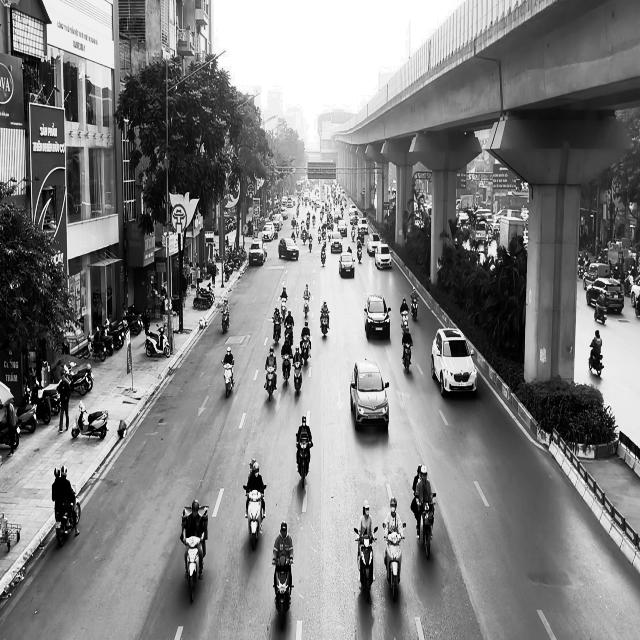car: (431, 327, 477, 397), (350, 357, 389, 430), (364, 294, 391, 339), (278, 237, 299, 261), (374, 243, 392, 269), (338, 252, 355, 278)
motorbike: (382, 522, 406, 602), (353, 526, 378, 602), (54, 484, 80, 547), (180, 535, 204, 603), (272, 557, 293, 630), (243, 484, 266, 550), (415, 492, 436, 560), (295, 438, 313, 488), (588, 344, 604, 376), (221, 360, 234, 398), (264, 365, 277, 401), (292, 360, 303, 396), (401, 342, 413, 374), (594, 298, 608, 324), (281, 354, 291, 386), (300, 336, 311, 364), (272, 320, 282, 344), (320, 312, 329, 337), (400, 310, 409, 333), (221, 308, 229, 333), (303, 296, 309, 318)
